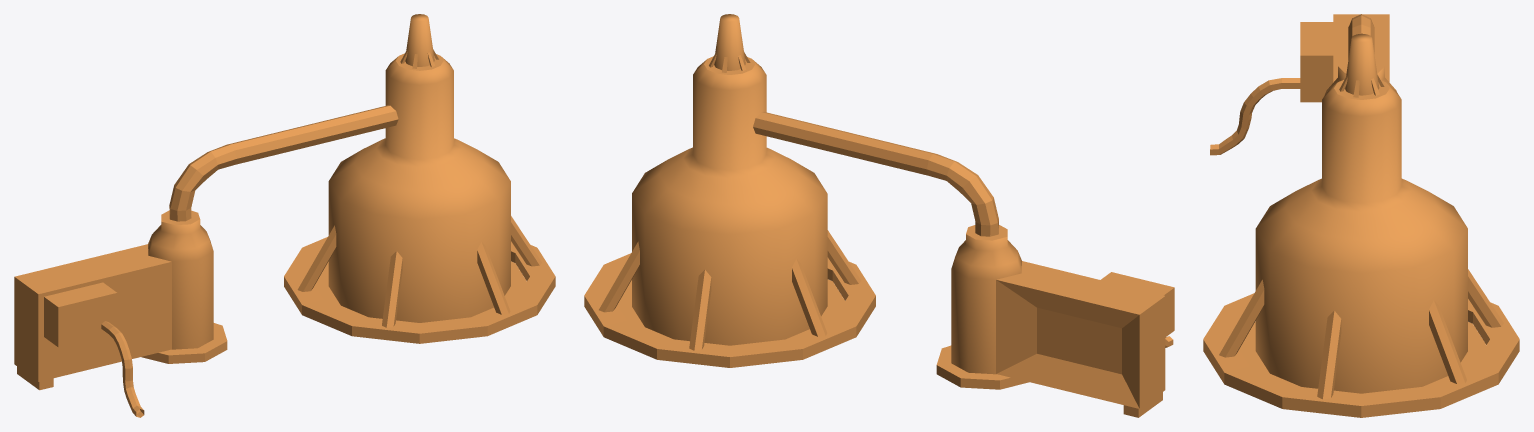
Rendered from Bobina Geotermal.fbx.
3 renders of one model, left to right at view 1: azimuth 30°, elevation 25°; view 2: azimuth 150°, elevation 25°; view 3: azimuth 270°, elevation 25°, orthographic. The views are drawn at different scales.
Parts seen in each view (by area): view 1: Cube.002; view 2: Cube.002; view 3: Cube.002.
Boxes of the visible parts, x1,y1,x2,y2 form: Cube.002: (14, 14, 555, 417); Cube.002: (584, 14, 1174, 417); Cube.002: (1203, 14, 1519, 417).
Bounding box in the file's own units: 2031 × 1024 × 935.
